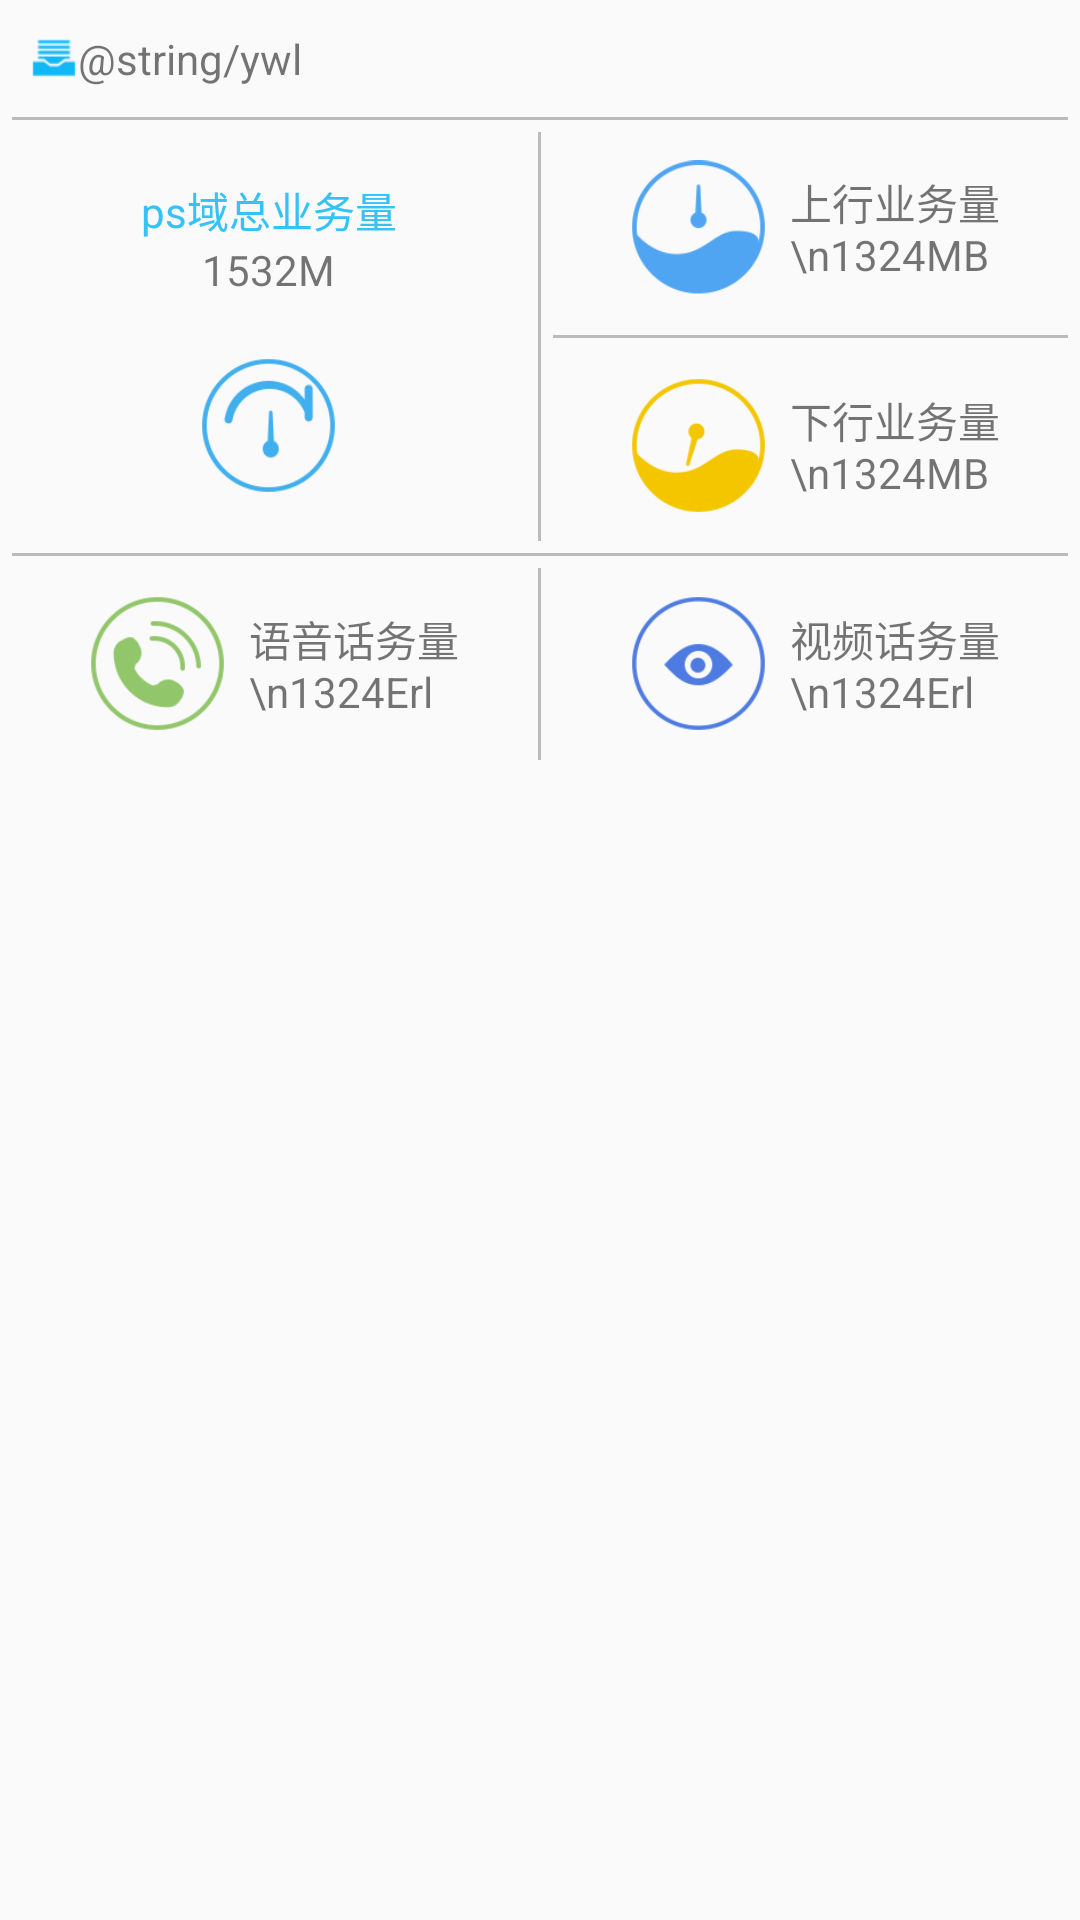

Named icons in this screenshot (1080*1920) and their bounding boxes, [x1=x1, y1=y1, x2=x2, y2=y2]:
yyhw: [x1=91, y1=597, x2=224, y2=730]
